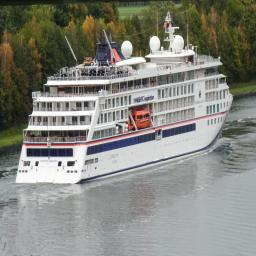cruises: (15, 12, 235, 188)
